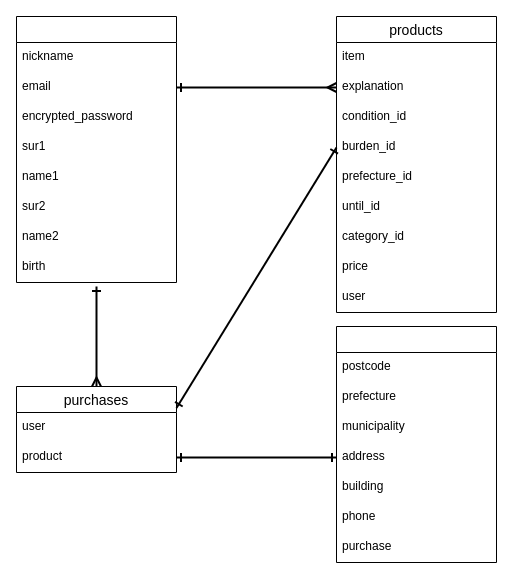
The diagram is 513 pixels wide and 579 high, and some of its shapes have lost their labels. Here are the shapes that lost their labels. From the top down, the box of each, then its label:
(16, 16, 176, 282): users
(336, 326, 496, 562): shippings
